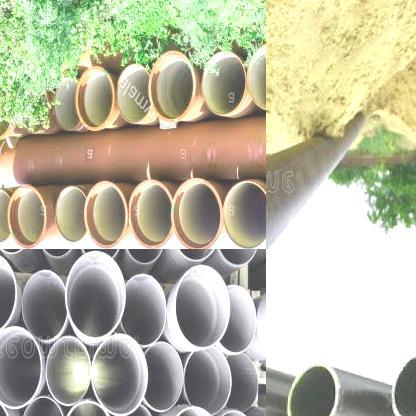pipe: (66, 250, 126, 338), (175, 264, 230, 348), (92, 334, 148, 416), (148, 50, 197, 123), (0, 326, 43, 409), (171, 178, 221, 249), (184, 346, 232, 416), (121, 274, 166, 346), (46, 336, 91, 406), (22, 270, 67, 340), (128, 179, 172, 249), (84, 180, 128, 249), (286, 361, 341, 416), (223, 180, 266, 249), (201, 51, 246, 115), (144, 342, 184, 412), (218, 284, 256, 354), (75, 66, 115, 132), (7, 185, 46, 249), (116, 64, 151, 123), (225, 352, 258, 411), (55, 186, 87, 243), (389, 350, 416, 416), (54, 78, 81, 131), (246, 43, 266, 110), (0, 253, 16, 335), (21, 396, 64, 416), (217, 249, 259, 266), (124, 249, 166, 264), (0, 189, 10, 243)
